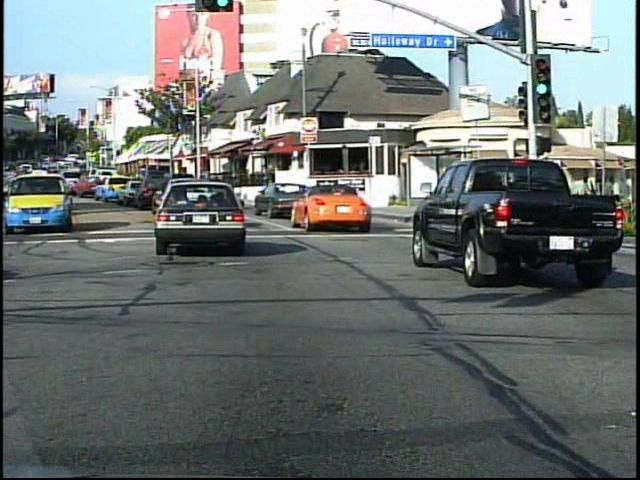person: (592, 182, 614, 255)
